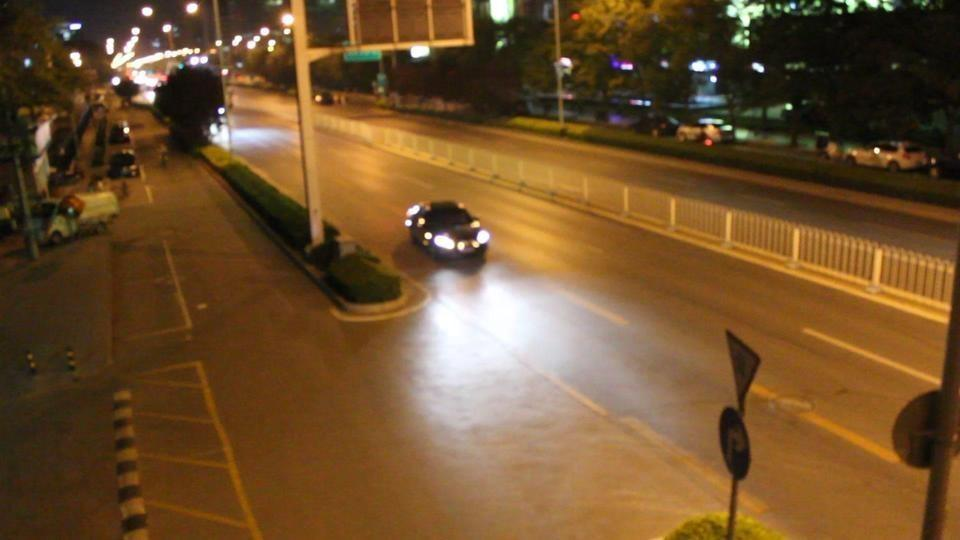car: (404, 200, 492, 261), (48, 189, 122, 239), (847, 142, 934, 174), (675, 118, 742, 146), (107, 151, 141, 179), (109, 121, 131, 144)
